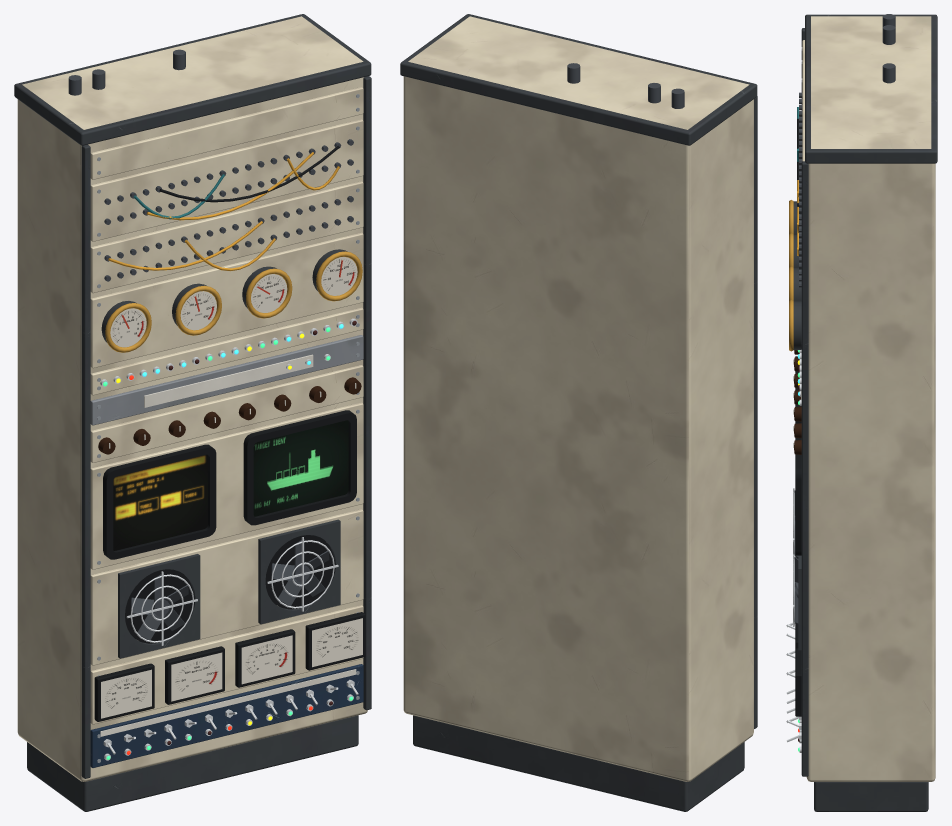
The model's file is Rack_90_6.glb.
The picture shows the model from 3 angles, left to right: view 1: azimuth 30°, elevation 25°; view 2: azimuth 150°, elevation 25°; view 3: azimuth 270°, elevation 25°; orthographic projection. The views are drawn at different scales.
Visible parts, largest first — view 1: Rack_90_6_Body; view 2: Rack_90_6_Body; view 3: Rack_90_6_Body.
Part boxes in pixels (left/top/right/bottom): Rack_90_6_Body: left=14, top=14, right=371, bottom=811; Rack_90_6_Body: left=400, top=14, right=757, bottom=811; Rack_90_6_Body: left=786, top=14, right=937, bottom=811.
Bounding box in the file's own units: 0.91 × 2.1 × 0.4216.
Materials: 24 (13 with a texture image).
